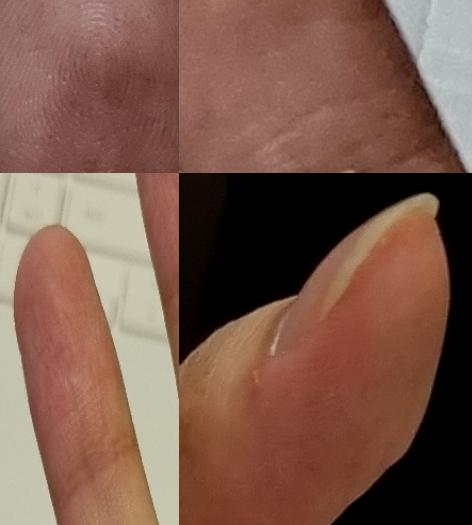Fingerprints: (206, 208, 450, 523), (179, 0, 438, 173), (13, 223, 137, 520), (0, 0, 179, 173)
